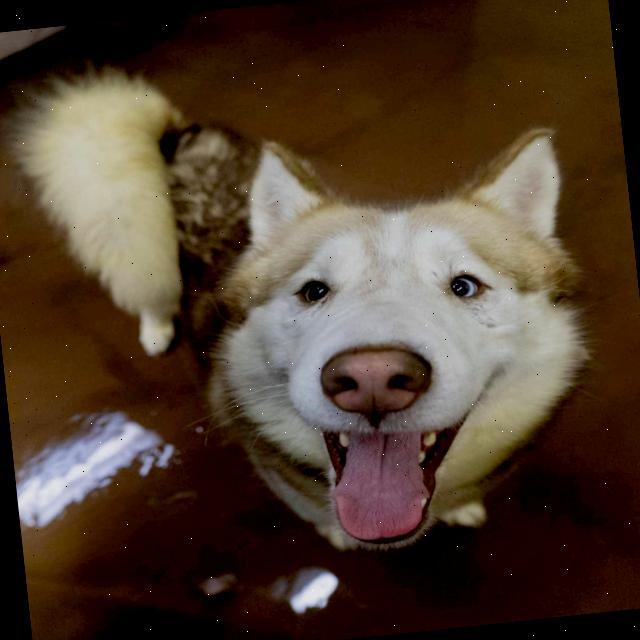siberian_husky_dog: (146, 90, 640, 593)
